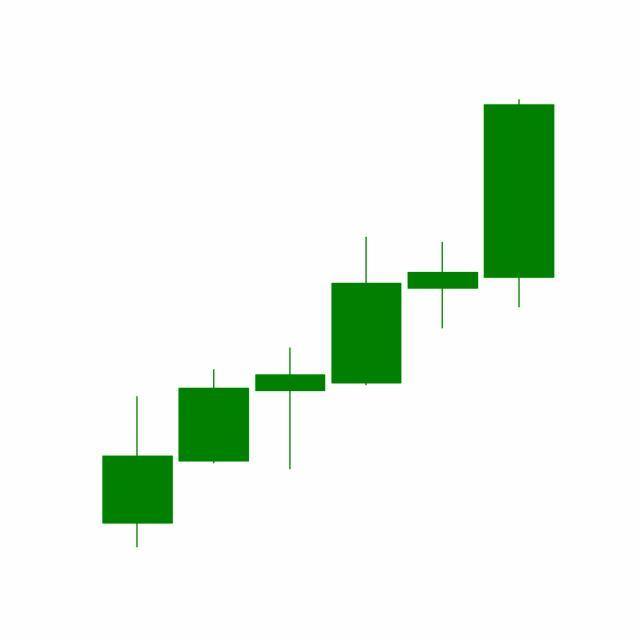Hikkake Pattern: (175, 100, 555, 475)
